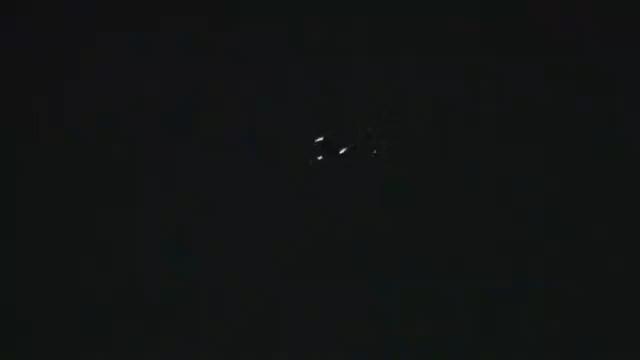Plane: (282, 129, 367, 170)
